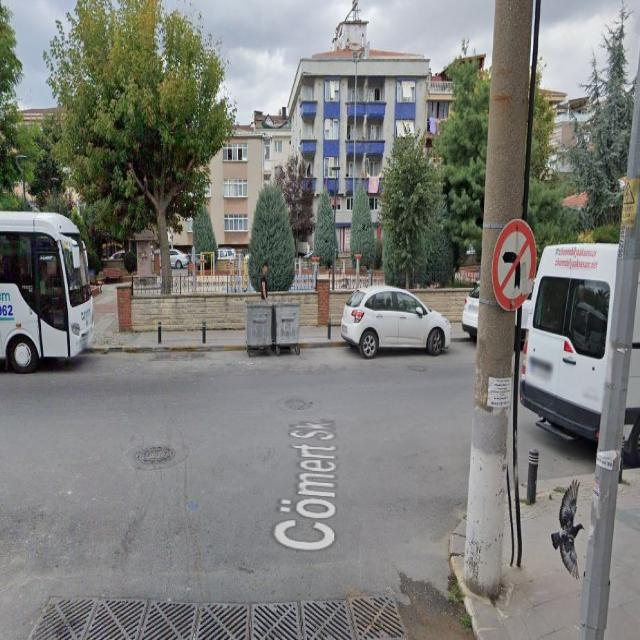soladonulmez: (492, 218, 536, 311)
